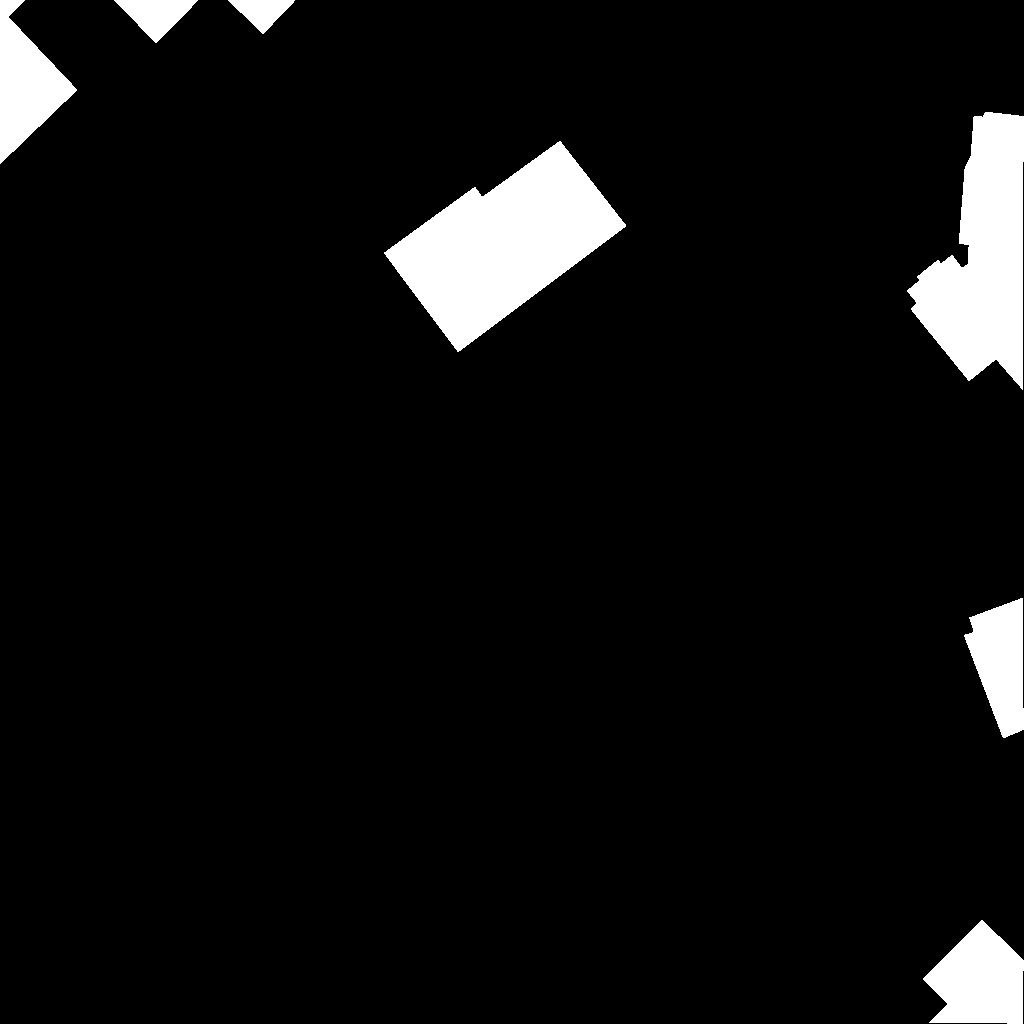building: (384, 141, 627, 353), (907, 112, 1024, 391), (0, 0, 78, 165), (923, 920, 1024, 1024), (964, 598, 1024, 739), (114, 0, 297, 44)
